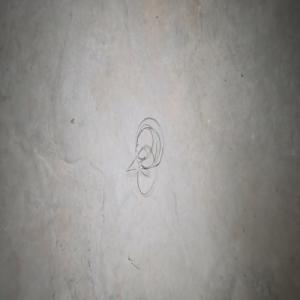Wire: (125, 117, 163, 194)
